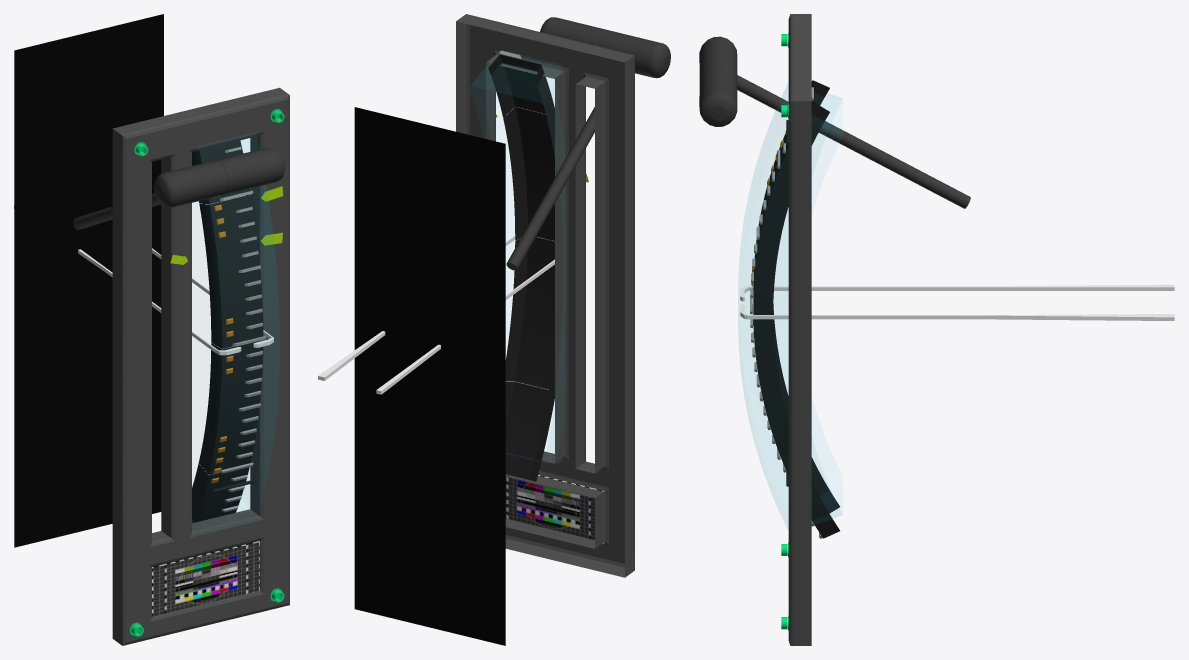
Rendered from leverpanel.FBX.
3 renders of one model, left to right at view 1: azimuth 30°, elevation 25°; view 2: azimuth 150°, elevation 25°; view 3: azimuth 270°, elevation 25°, orthographic. The views are drawn at different scales.
Visible parts, largest first — view 1: Plane001, Frame, scale, label, glass, lever handle, Levercyl, indicator001, scale001; view 2: Plane001, Frame, scale, label, lever handle, Levercyl, indicator001, indicator, glass; view 3: Frame, scale, glass, lever handle, Levercyl, indicator, indicator001.
Boxes of the visible parts, x1=… form: Plane001: x1=14, y1=14, x2=163, y2=547; Frame: x1=112, y1=87, x2=289, y2=645; scale: x1=192, y1=140, x2=265, y2=523; label: x1=152, y1=541, x2=259, y2=616; glass: x1=192, y1=137, x2=279, y2=522; lever handle: x1=154, y1=147, x2=284, y2=207; Levercyl: x1=72, y1=193, x2=160, y2=229; indicator001: x1=14, y1=205, x2=241, y2=355; scale001: x1=211, y1=196, x2=233, y2=483; Plane001: x1=354, y1=107, x2=505, y2=645; Frame: x1=456, y1=14, x2=634, y2=577; scale: x1=488, y1=50, x2=554, y2=481; label: x1=505, y1=475, x2=604, y2=543; lever handle: x1=540, y1=17, x2=670, y2=78; Levercyl: x1=506, y1=107, x2=594, y2=270; indicator001: x1=376, y1=259, x2=554, y2=394; indicator: x1=318, y1=235, x2=515, y2=380; glass: x1=471, y1=52, x2=561, y2=462; Frame: x1=788, y1=14, x2=811, y2=645; scale: x1=750, y1=80, x2=839, y2=538; glass: x1=738, y1=85, x2=841, y2=527; lever handle: x1=699, y1=36, x2=737, y2=126; Levercyl: x1=737, y1=75, x2=970, y2=208; indicator: x1=740, y1=304, x2=1174, y2=320; indicator001: x1=740, y1=284, x2=1174, y2=301.
Bounding box in the file's own units: 343 × 1000 × 790.
11 materials, 1 textured.
